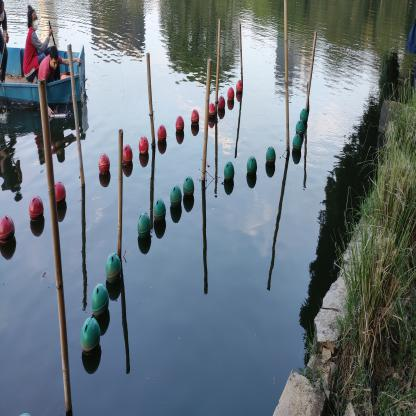green_buoy: (81, 316, 101, 368), (90, 279, 110, 323), (136, 211, 153, 249), (107, 253, 122, 293), (154, 199, 168, 236), (169, 183, 182, 220), (223, 155, 236, 188), (184, 174, 194, 206), (290, 136, 302, 161), (267, 144, 277, 170), (248, 158, 258, 182), (301, 106, 309, 129), (296, 122, 306, 140)
red_buoy: (28, 193, 44, 230), (0, 216, 16, 252), (56, 178, 69, 213), (138, 132, 149, 165), (123, 141, 133, 176), (98, 154, 110, 182), (157, 122, 166, 152), (176, 114, 184, 142), (191, 108, 199, 134), (218, 94, 225, 116), (209, 102, 215, 127), (228, 88, 235, 108), (237, 79, 244, 98)
